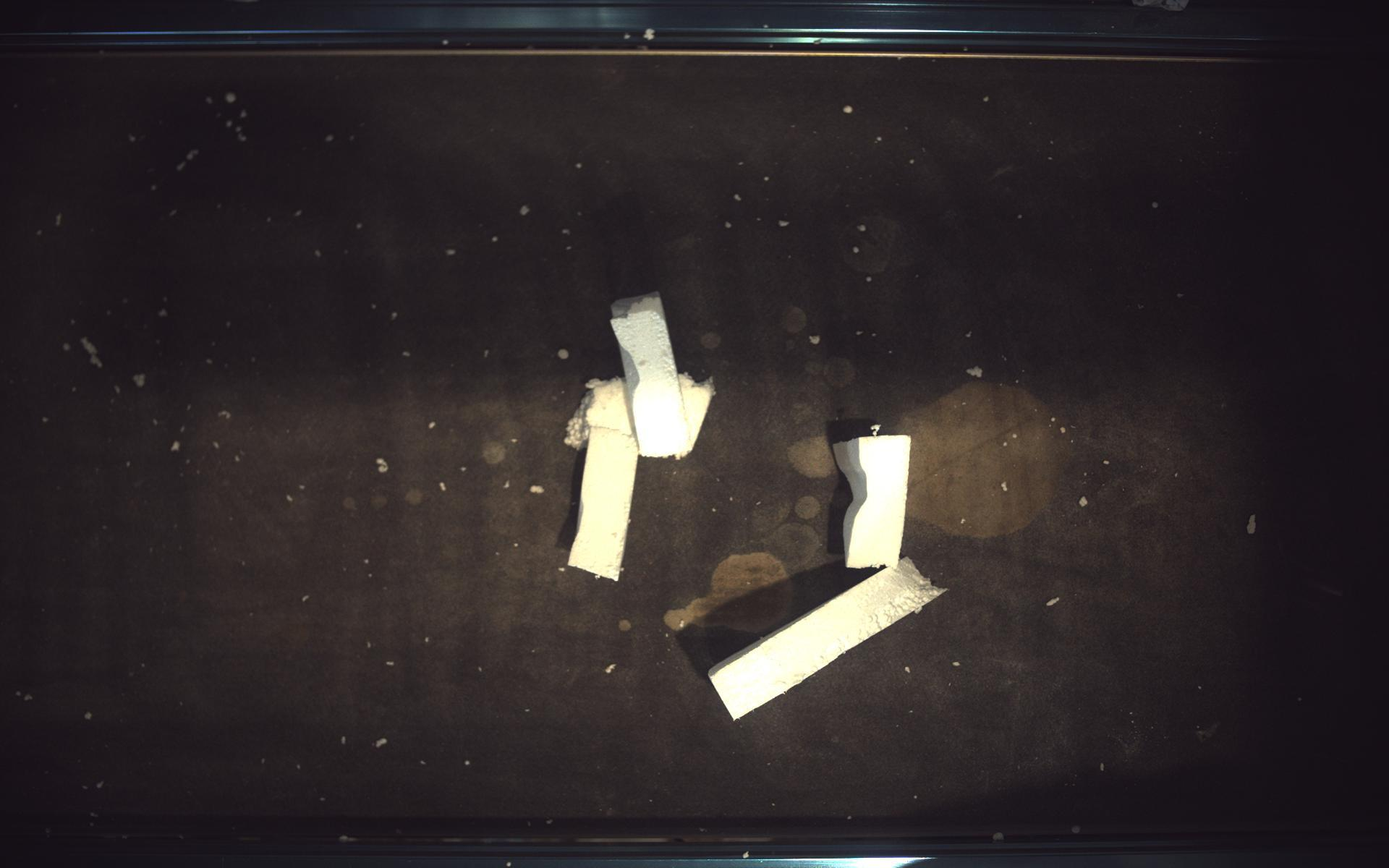foam: (711, 559, 946, 720), (612, 292, 693, 457), (569, 427, 640, 582), (835, 435, 912, 569), (565, 378, 634, 450), (679, 374, 715, 454)
